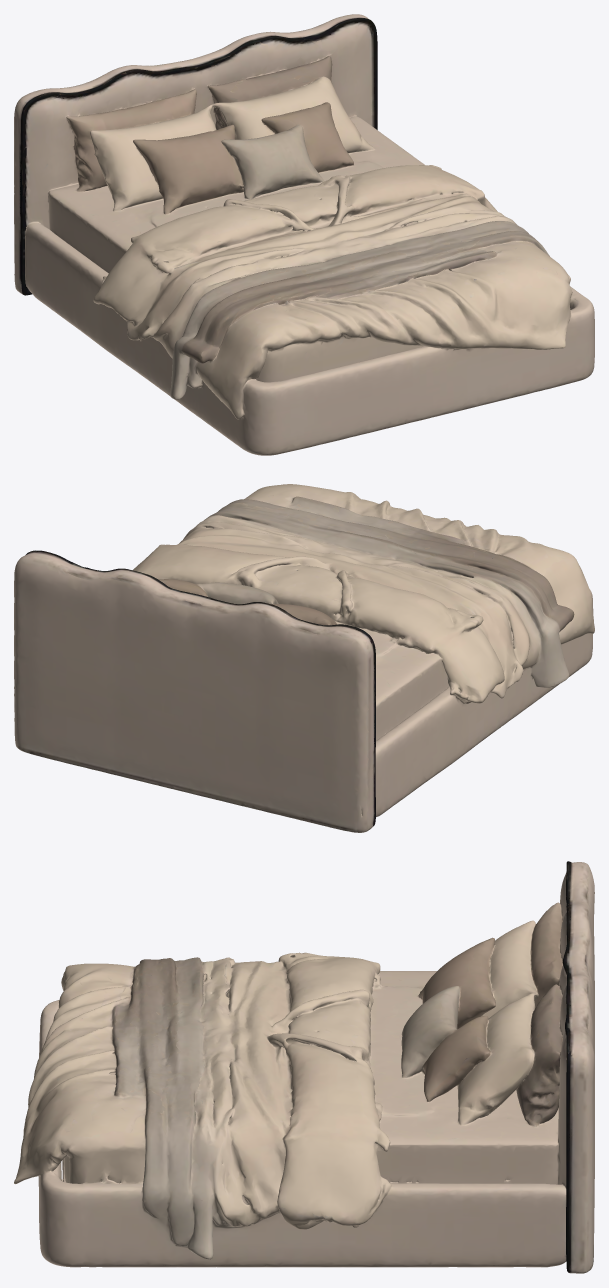
Rendered from Scalloped Upholstered Bed 3D Model.glb.
3 views of the same model, one above another, from view 1: azimuth 30°, elevation 25°; view 2: azimuth 150°, elevation 25°; view 3: azimuth 270°, elevation 25° (orthographic). The views are drawn at different scales.
Parts seen in each view (by area): view 1: world; view 2: world; view 3: world.
Boxes of the visible parts, bbox=[...] form: world: bbox=[14, 14, 594, 455]; world: bbox=[14, 484, 594, 832]; world: bbox=[14, 861, 594, 1273].
Size of the model in its own units: 0.8933 by 0.4361 by 1.
1 material, 1 textured.
